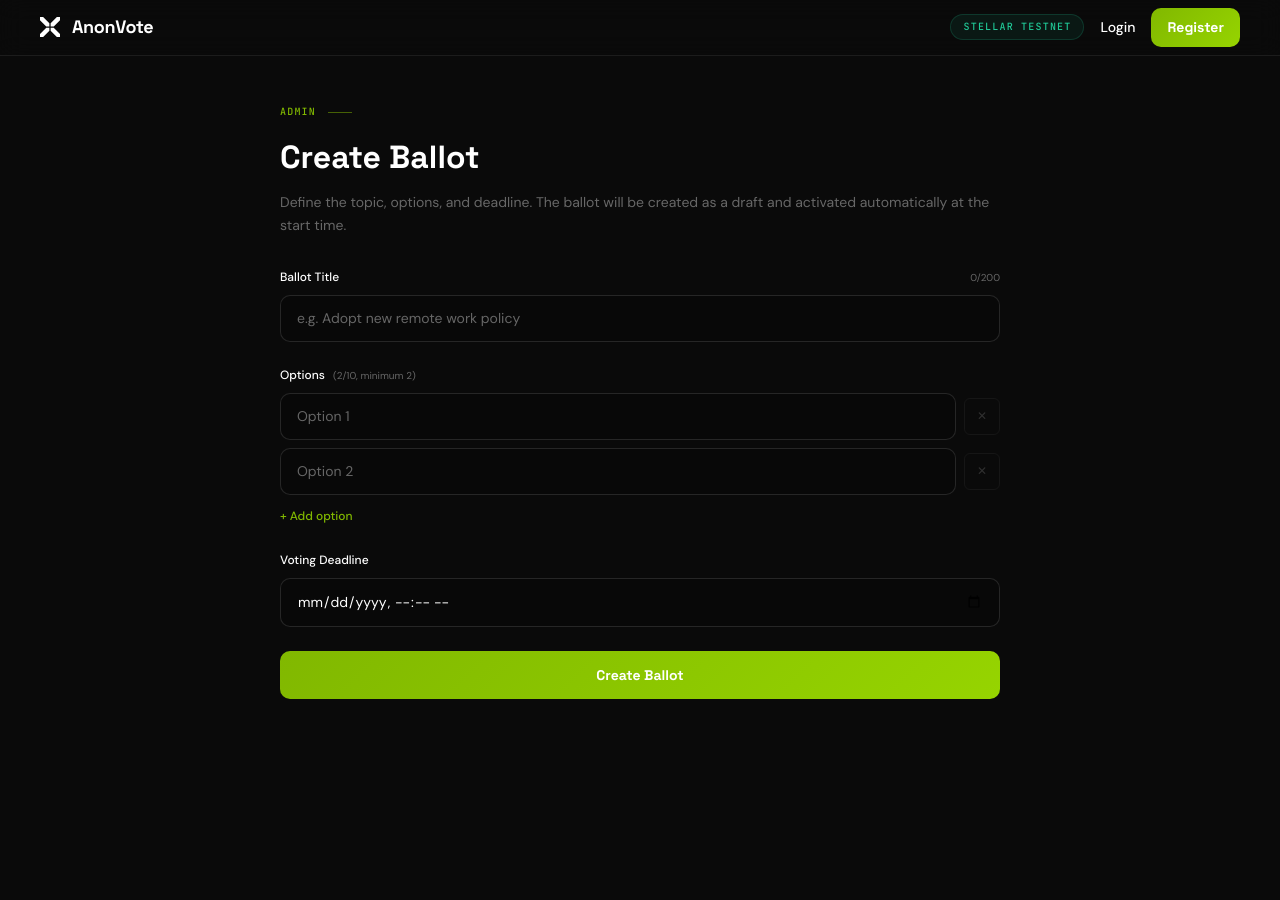
Admin CreateBallotPage — Deadline Picker › shows UTC equivalent beneath the local deadline picker
This screenshot has width=1280, height=900.
Note: Set a local datetime
Type "2026-12-25T15:00" into the field labelled "Voting Deadline". click: [640, 602]
box: [280,578,1000,627]
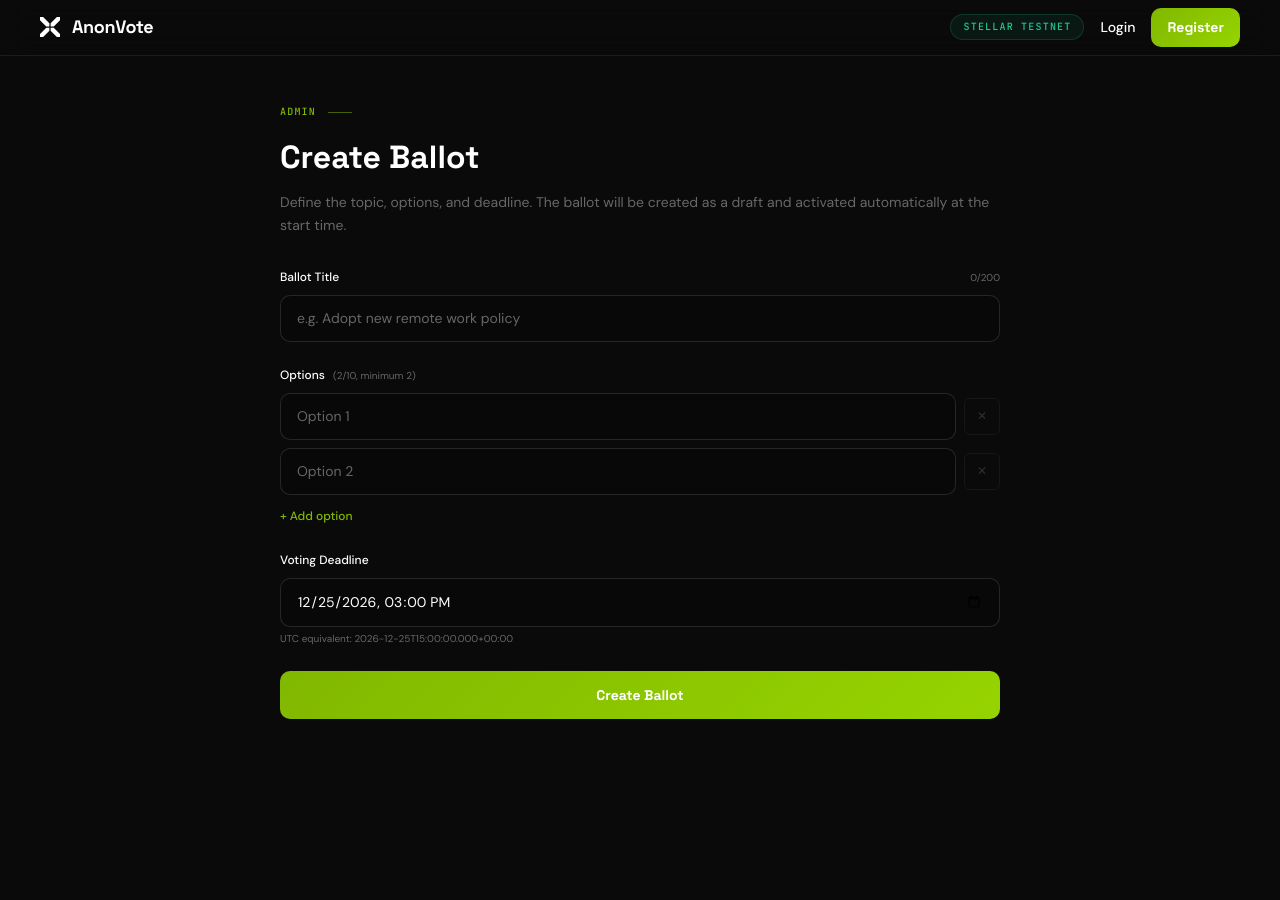
Now the text "UTC equivalent: 2026-12-25T15:00:00.000+00:00" is shown, box [280,632,513,645]
